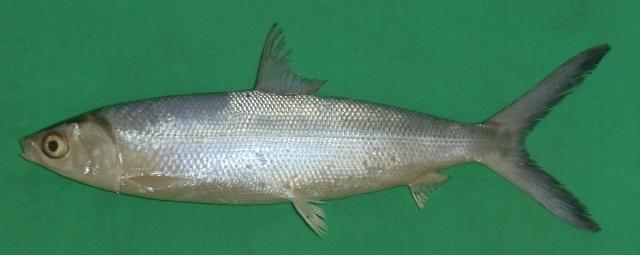Mulut: (3, 114, 49, 187)
Sirip Anal: (400, 164, 460, 220)
Sirip Dada: (117, 160, 209, 210)
Sirip Ekor: (473, 37, 629, 245)
Sirip Perut: (283, 186, 335, 244)
Sirip Punggung: (240, 14, 340, 116)
